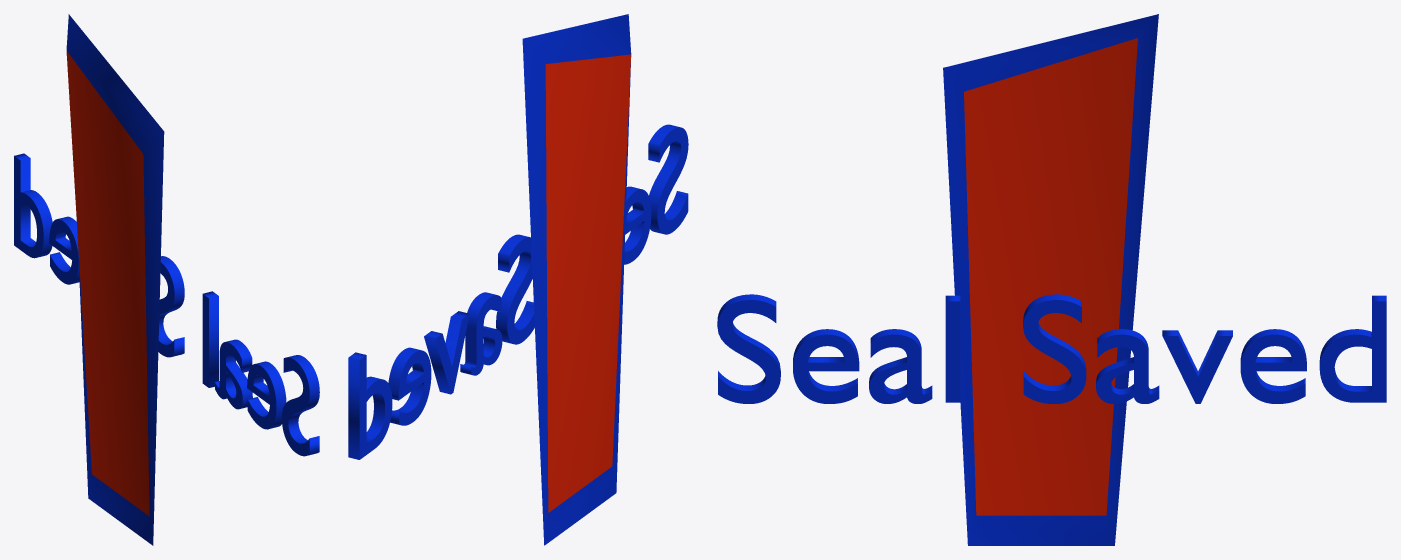
Rendered from slider.glb.
3 views of the same model, side by side, from view 1: azimuth 30°, elevation 25°; view 2: azimuth 150°, elevation 25°; view 3: azimuth 270°, elevation 25° (orthographic). The views are drawn at different scales.
Parts seen in each view (by area): view 1: Slider, SealsSavedText; view 2: Slider, SealsSavedText; view 3: Slider, SealsSavedText.
Part boxes in pixels (x1=…): Slider: x1=66, y1=14, x2=164, y2=545; SealsSavedText: x1=14, y1=153, x2=319, y2=456; Slider: x1=522, y1=14, x2=631, y2=545; SealsSavedText: x1=348, y1=124, x2=688, y2=459; Slider: x1=943, y1=14, x2=1158, y2=545; SealsSavedText: x1=717, y1=294, x2=1386, y2=403.
Size of the model in its own units: 0.4984 by 3.32 by 3.78.
